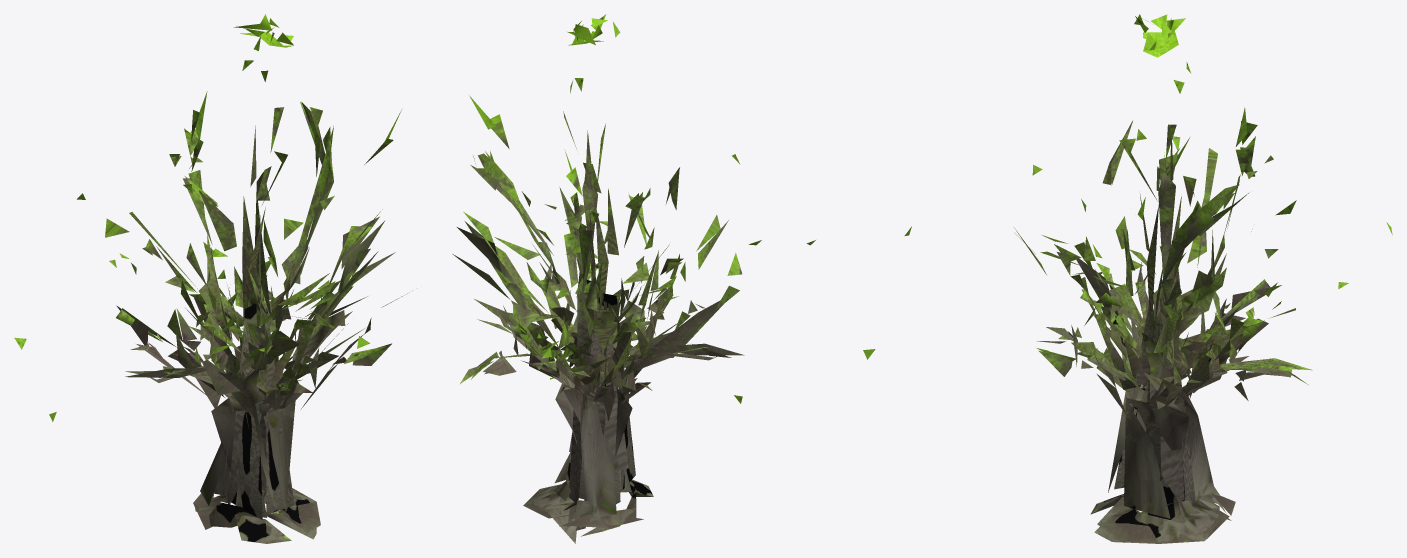
File: Tree.glb
3 views of the same model, side by side, from view 1: azimuth 30°, elevation 25°; view 2: azimuth 150°, elevation 25°; view 3: azimuth 270°, elevation 25° (orthographic). The views are drawn at different scales.
Visible parts, largest first — view 1: Mesh0; view 2: Mesh0; view 3: Mesh0.
Boxes of the visible parts, x1,y1,x2,y2 form: Mesh0: (14,14,409,543); Mesh0: (452,14,875,543); Mesh0: (904,14,1392,543).
Size of the model in its own units: 1.48 by 1.83 by 1.57.
Materials: 1 (1 with a texture image).
